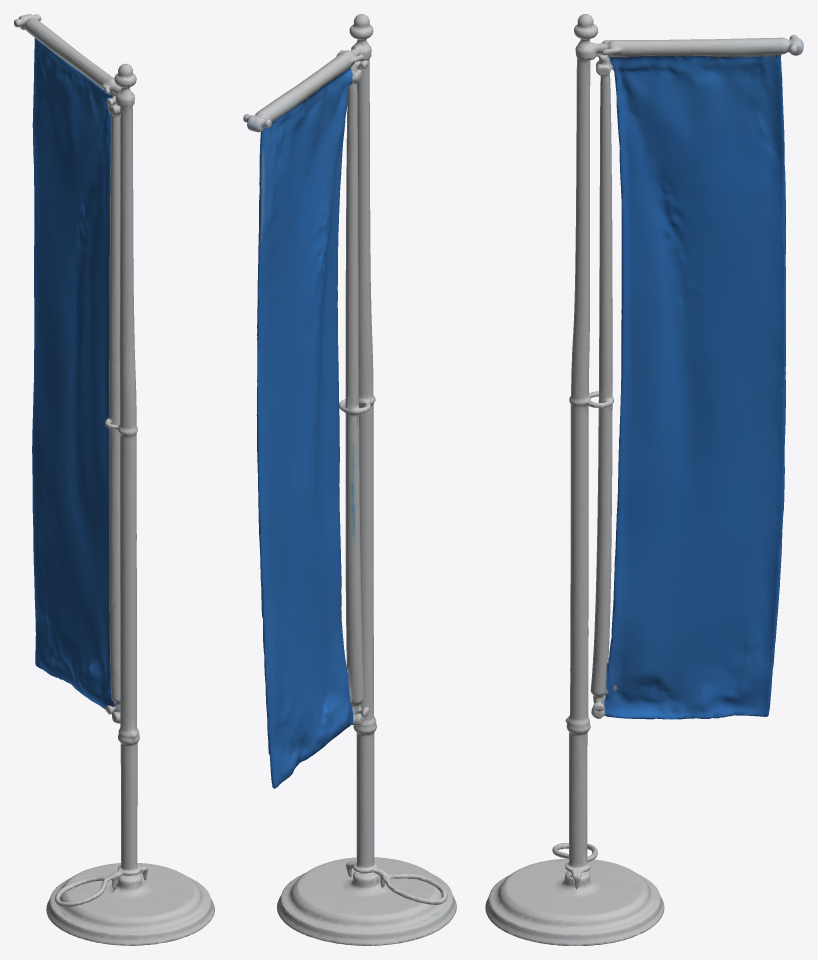
Rendered from prop-flag-banner-tall.glb.
3 renders of one model, left to right at view 1: azimuth 30°, elevation 25°; view 2: azimuth 150°, elevation 25°; view 3: azimuth 270°, elevation 25°, orthographic. The views are drawn at different scales.
Visible parts, largest first — view 1: tripo_node_f20e6bcf-10e0-4159-bf36-276138fb029f; view 2: tripo_node_f20e6bcf-10e0-4159-bf36-276138fb029f; view 3: tripo_node_f20e6bcf-10e0-4159-bf36-276138fb029f.
Part boxes in pixels (x1,y1,x2,y2): tripo_node_f20e6bcf-10e0-4159-bf36-276138fb029f: (14, 14, 214, 945); tripo_node_f20e6bcf-10e0-4159-bf36-276138fb029f: (243, 14, 456, 945); tripo_node_f20e6bcf-10e0-4159-bf36-276138fb029f: (485, 14, 803, 945).
Bounding box in the file's own units: 1.45 × 8 × 2.58.
1 material, 1 textured.
